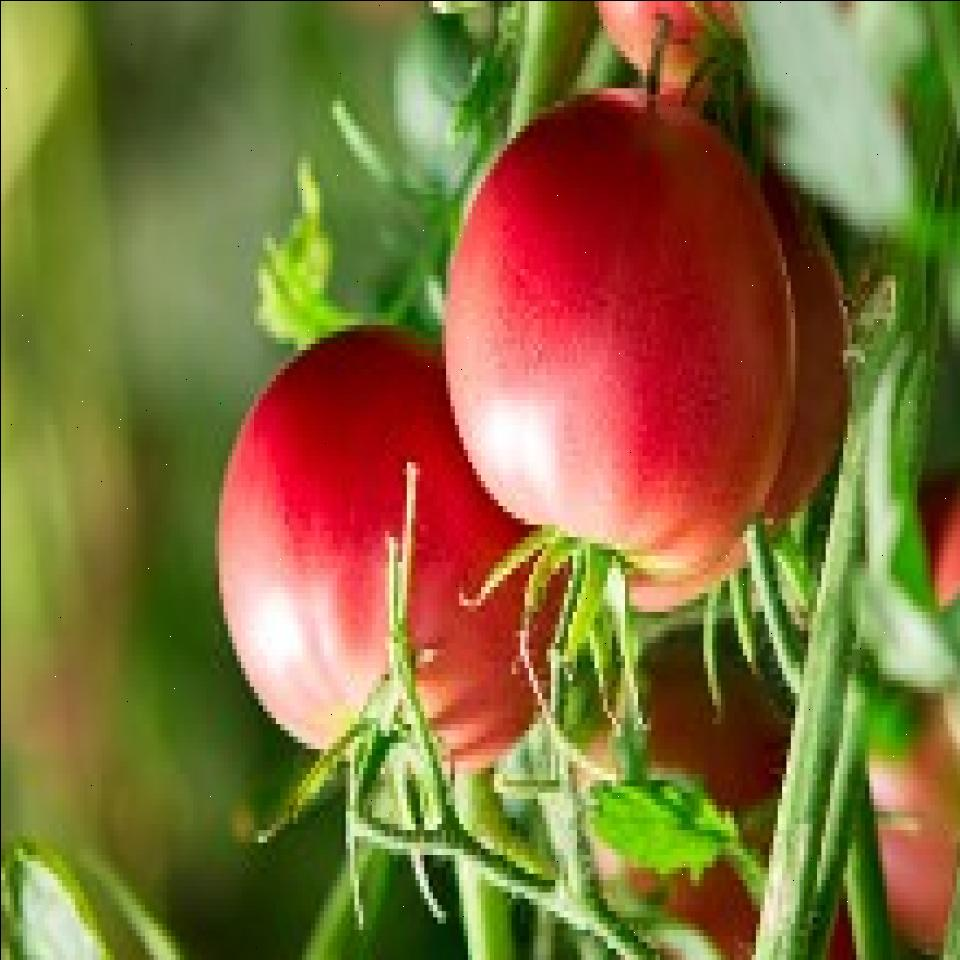Healthy: (190, 320, 549, 791), (467, 89, 798, 594)
